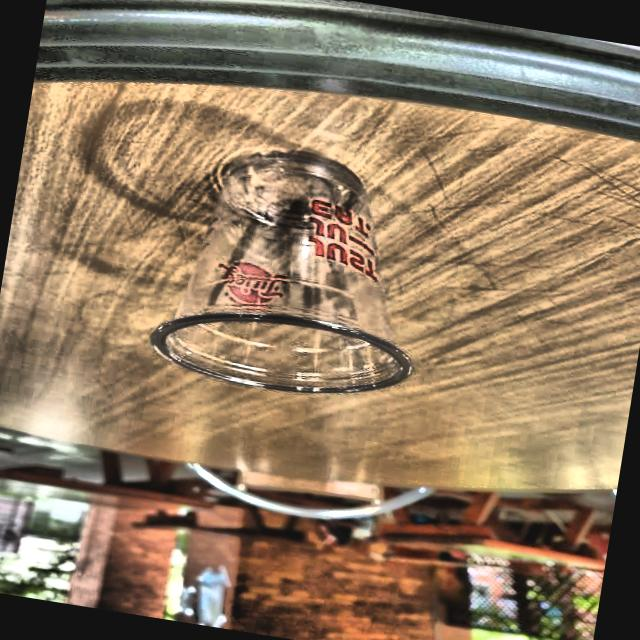plastic cup: (132, 124, 453, 421)
